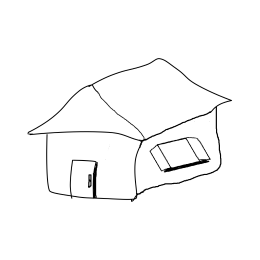door: (65, 154, 103, 203)
open_window: (149, 136, 212, 174)
roof: (29, 57, 232, 141)
wall: (40, 127, 144, 201)
